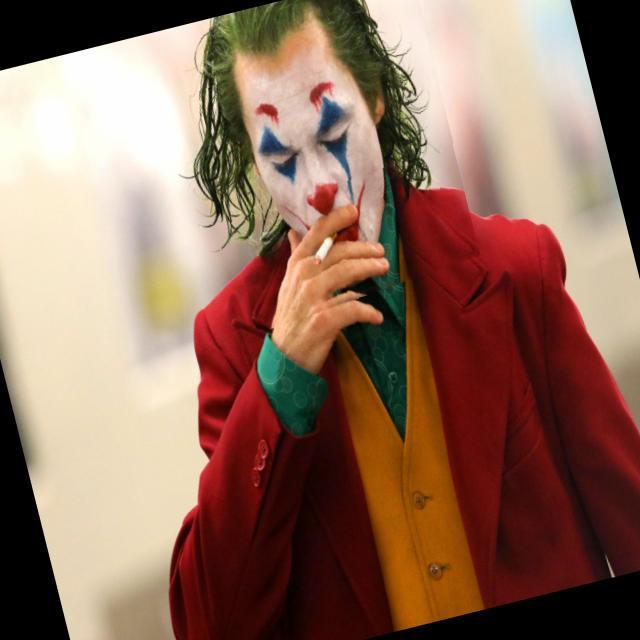cigarette: (294, 226, 354, 282)
